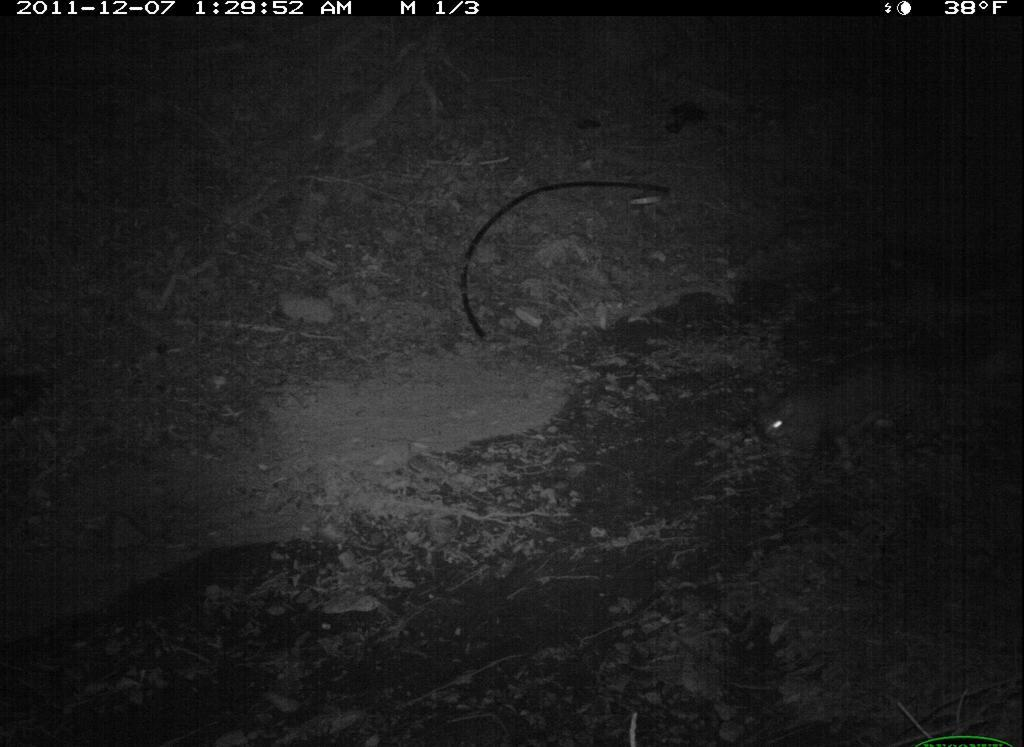cat: (747, 345, 968, 501)
